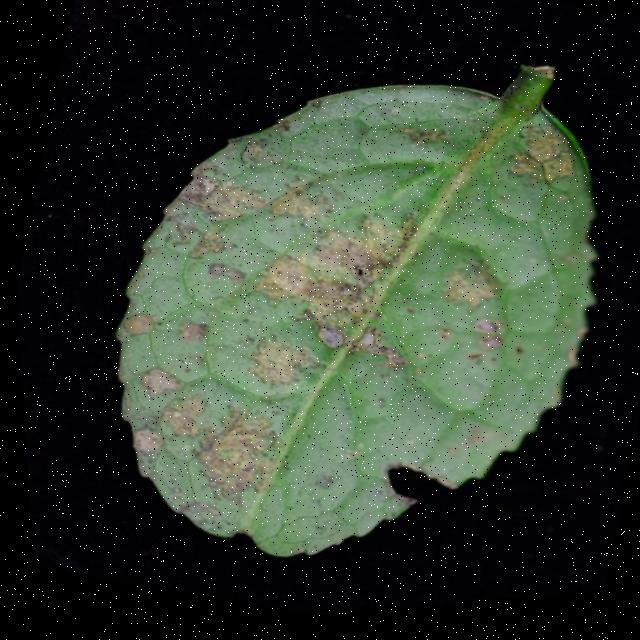Tea algae leaf spot: (83, 15, 603, 587)
